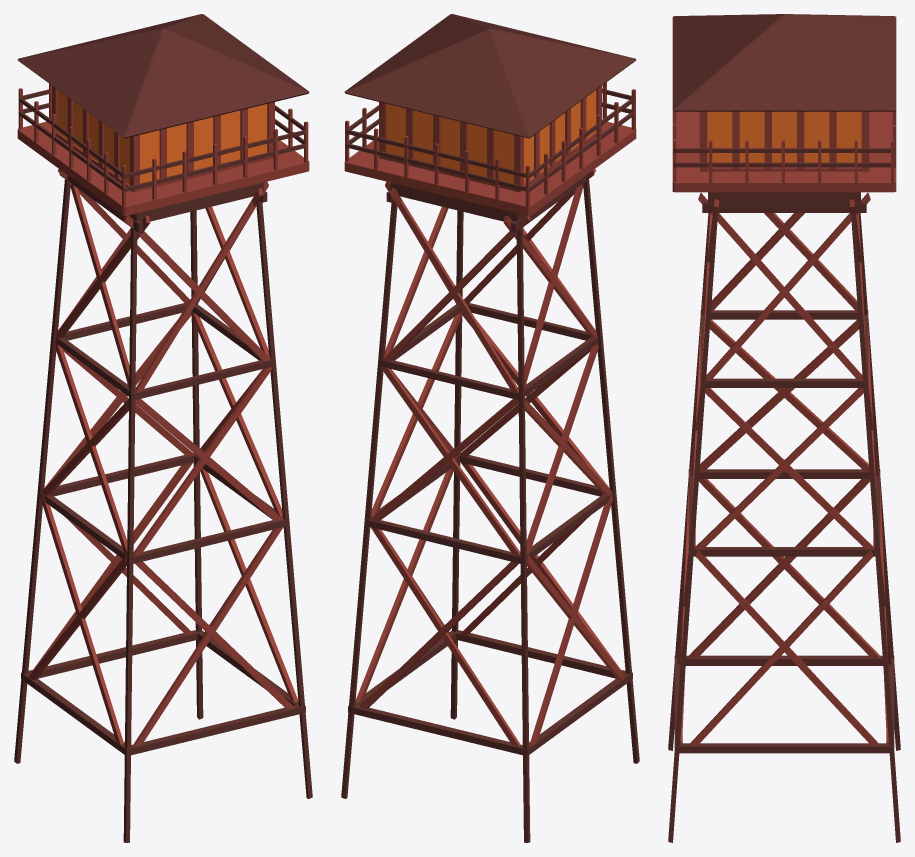
Rendered from watchtower.obj.
3 views of the same model, side by side, from view 1: azimuth 30°, elevation 25°; view 2: azimuth 150°, elevation 25°; view 3: azimuth 270°, elevation 25° (orthographic). The views are drawn at different scales.
Parts seen in each view (by area): view 1: Watertower_2_PaintedWood, Watertower_2_PaintedWood2, Watertower_2_Window; view 2: Watertower_2_PaintedWood, Watertower_2_PaintedWood2, Watertower_2_Window; view 3: Watertower_2_PaintedWood, Watertower_2_PaintedWood2, Watertower_2_Window.
Part boxes in pixels (bbox=[...]): Watertower_2_PaintedWood: bbox=[14, 14, 312, 842]; Watertower_2_PaintedWood2: bbox=[17, 83, 309, 746]; Watertower_2_Window: bbox=[57, 90, 267, 184]; Watertower_2_PaintedWood: bbox=[341, 14, 639, 842]; Watertower_2_PaintedWood2: bbox=[344, 82, 636, 746]; Watertower_2_Window: bbox=[386, 90, 596, 184]; Watertower_2_PaintedWood: bbox=[668, 14, 900, 842]; Watertower_2_PaintedWood2: bbox=[672, 110, 896, 746]; Watertower_2_Window: bbox=[707, 111, 861, 162].
Bounding box in the file's own units: 3.64 × 13.99 × 3.77.
